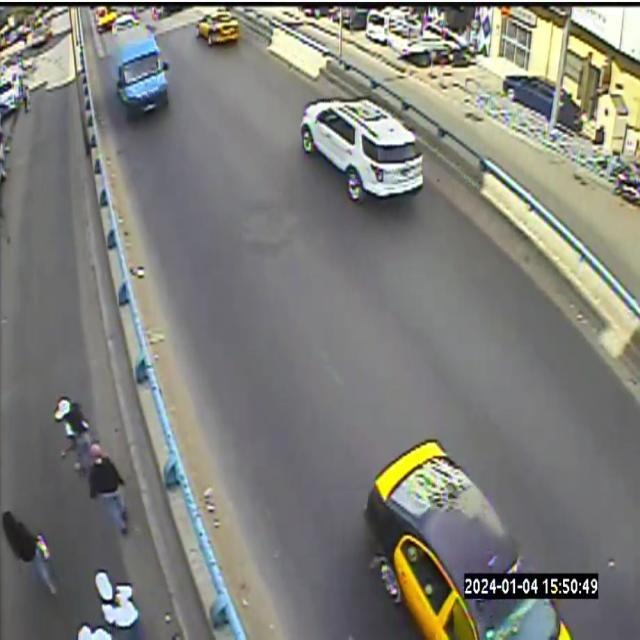car: (364, 440, 584, 639), (300, 97, 422, 200), (110, 24, 168, 117), (196, 9, 239, 46)
